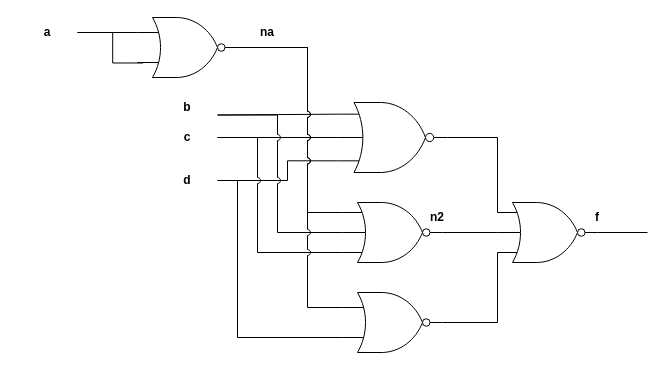
The diagram is 666 pixels wide and 370 high, and some of its shapes have lost their labels. The shapes that lost their labels are listed below. From the top down, each one's centre as x and y in pixels, then its label:
At (x=392, y=137): "n1".
At (x=392, y=322): "n3".
